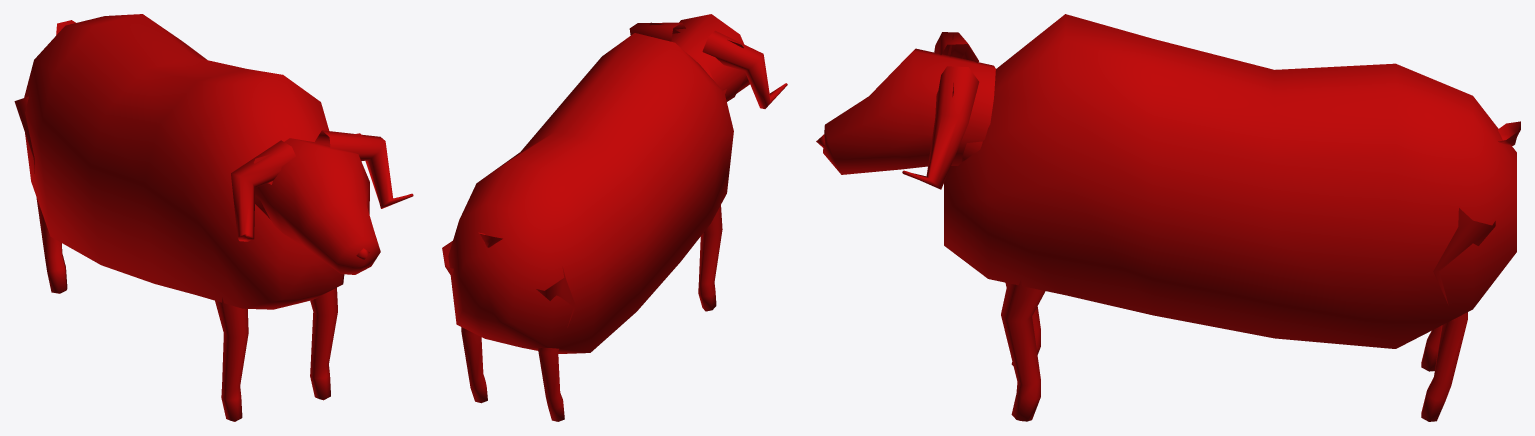
File: muskox.glb
3 renders of one model, left to right at view 1: azimuth 30°, elevation 25°; view 2: azimuth 150°, elevation 25°; view 3: azimuth 270°, elevation 25°, orthographic. The views are drawn at different scales.
Parts seen in each view (by area): view 1: body, head, leg_lf, leg_rf, leg_lh; view 2: body, head, leg_lh, leg_lf, leg_rh; view 3: body, head, leg_rf, leg_rh.
Part boxes in pixels (x1=…): body: x1=24, y1=14, x2=344, y2=309; head: x1=231, y1=130, x2=413, y2=274; leg_lf: x1=215, y1=297, x2=248, y2=421; leg_rf: x1=310, y1=287, x2=337, y2=400; leg_lh: x1=14, y1=96, x2=67, y2=293; body: x1=448, y1=33, x2=733, y2=353; head: x1=629, y1=14, x2=787, y2=108; leg_lh: x1=536, y1=267, x2=575, y2=421; leg_lf: x1=698, y1=202, x2=722, y2=311; leg_rh: x1=442, y1=241, x2=487, y2=403; body: x1=944, y1=14, x2=1516, y2=348; head: x1=816, y1=32, x2=995, y2=189; leg_rf: x1=1001, y1=279, x2=1045, y2=421; leg_rh: x1=1421, y1=208, x2=1495, y2=421.
Bounding box in the file's own units: 0.9062 × 1.62 × 2.82.
